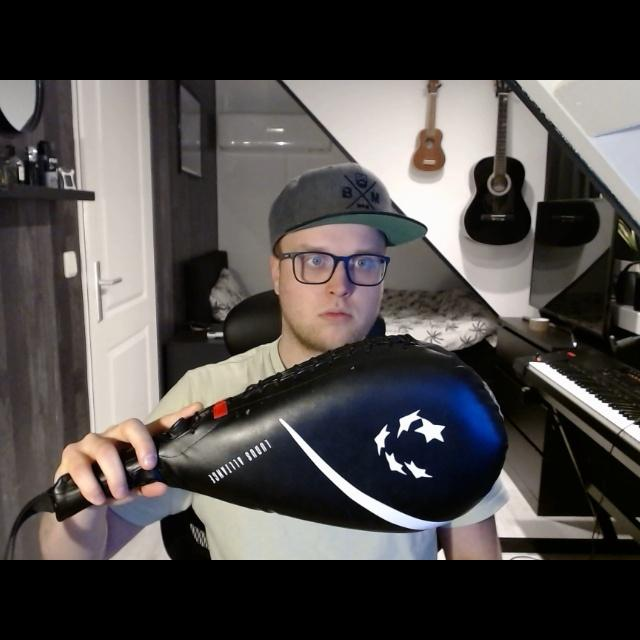paddle: (57, 330, 511, 544)
